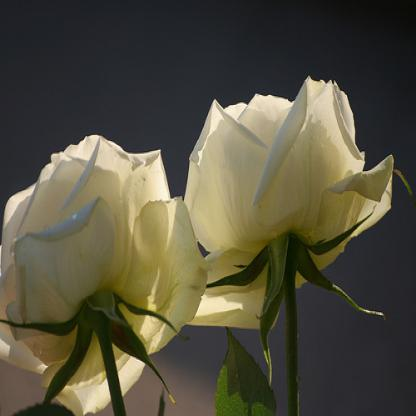ROSE-MAWAR: (4, 73, 404, 412)
